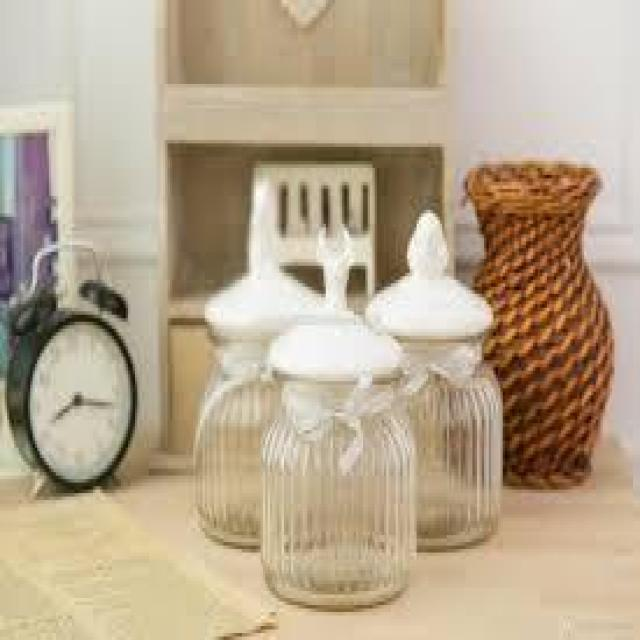Glass: (257, 222, 420, 614), (364, 210, 503, 556)
